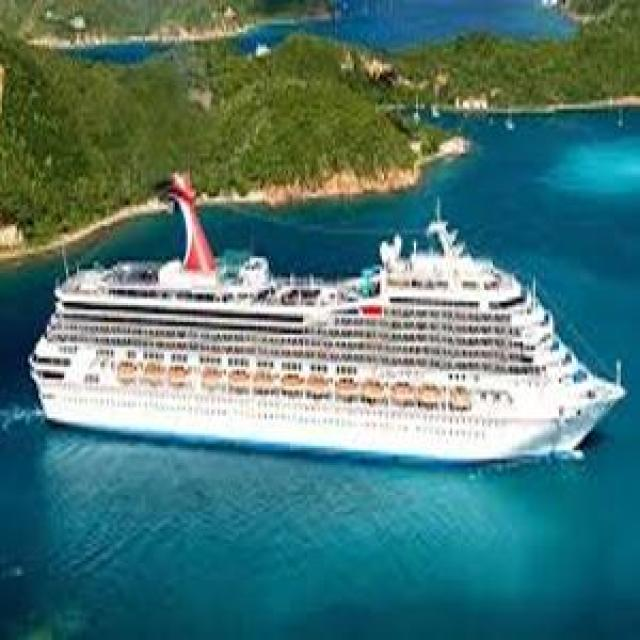passenger ship: (27, 218, 630, 468)
